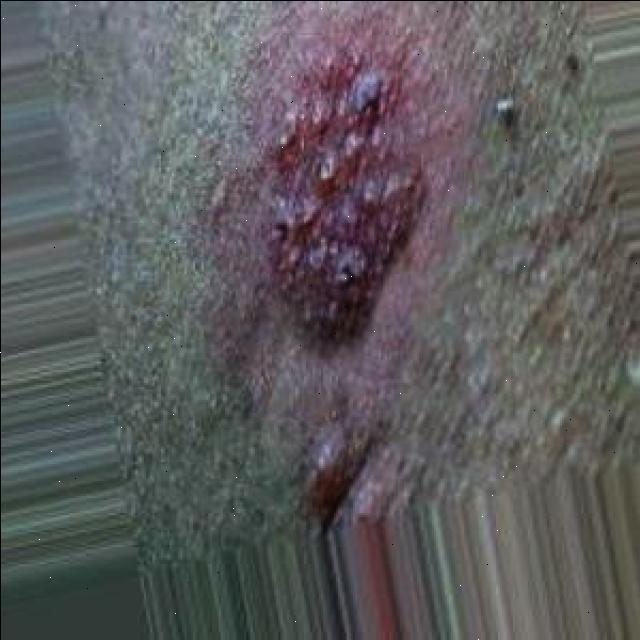Shingles: (262, 49, 426, 343)
